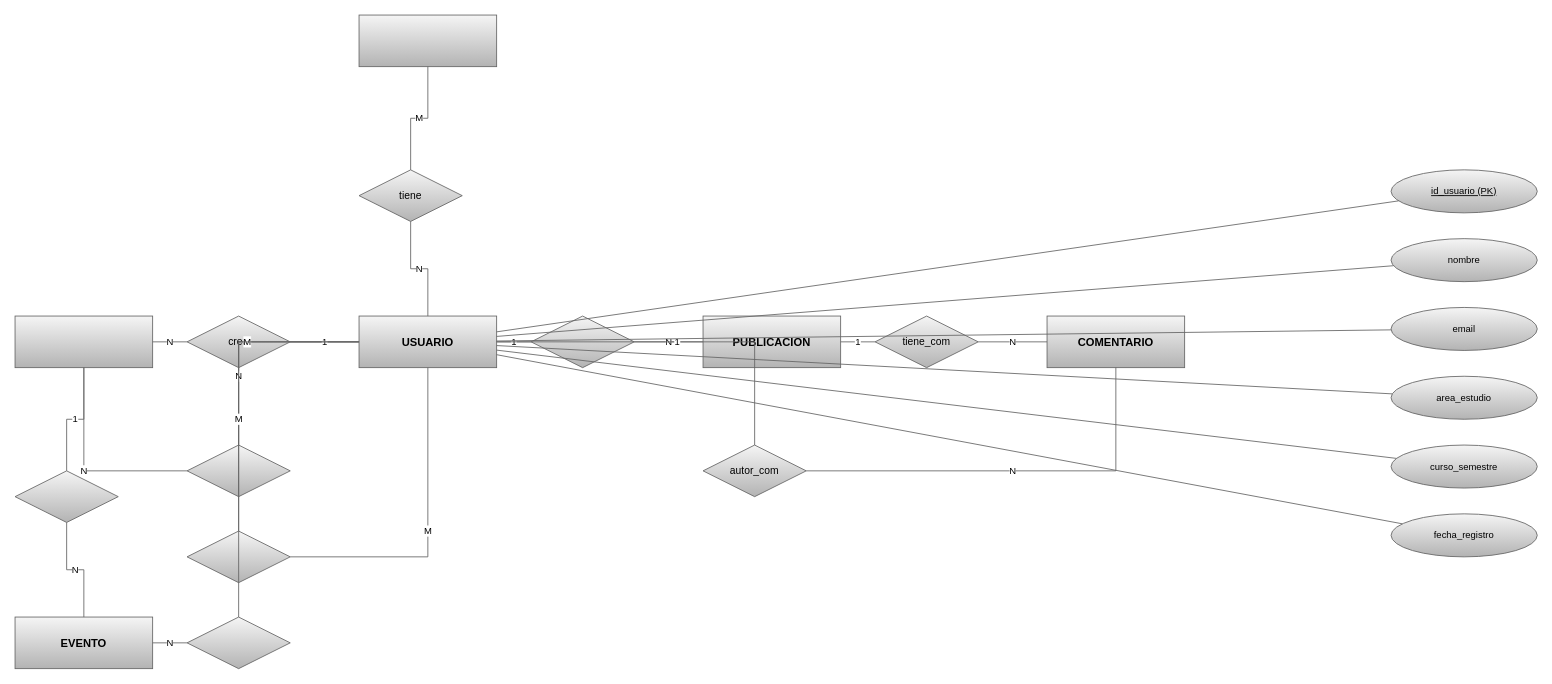
The diagram is 1552 pixels wide and 684 high, and some of its shapes have lost their labels. The shapes that lost their labels are listed below. From the top down, each one's box as (x1, y1, x2, y2) in pixels, then its label:
(358, 14, 497, 67): INTERES
(14, 315, 153, 368): GRUPO
(530, 315, 634, 368): escribe
(186, 444, 290, 497): pertenece
(14, 470, 118, 522): organiza
(186, 530, 290, 583): sigue
(186, 616, 290, 669): asiste
